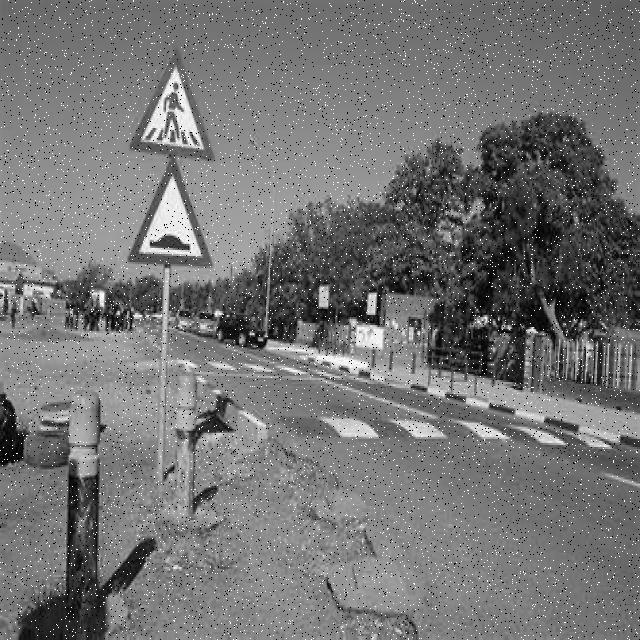Bump: (127, 154, 213, 266)
Pedestrain_crossing: (132, 50, 212, 148)
